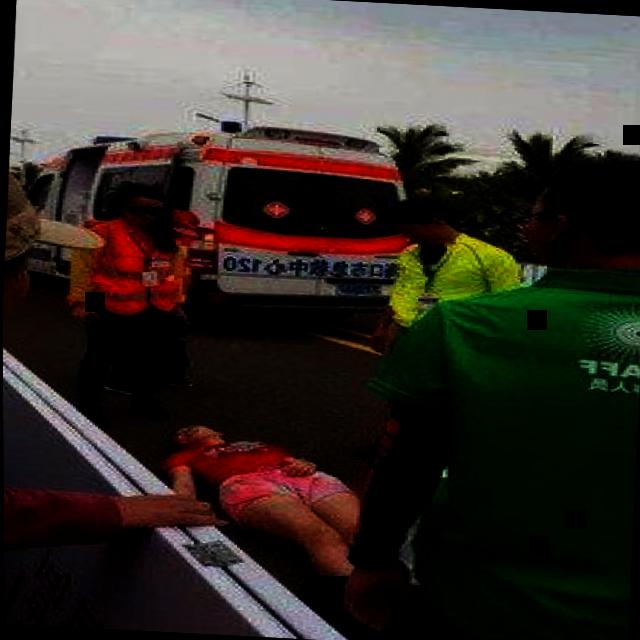Fall-Detected: (152, 404, 396, 600)
